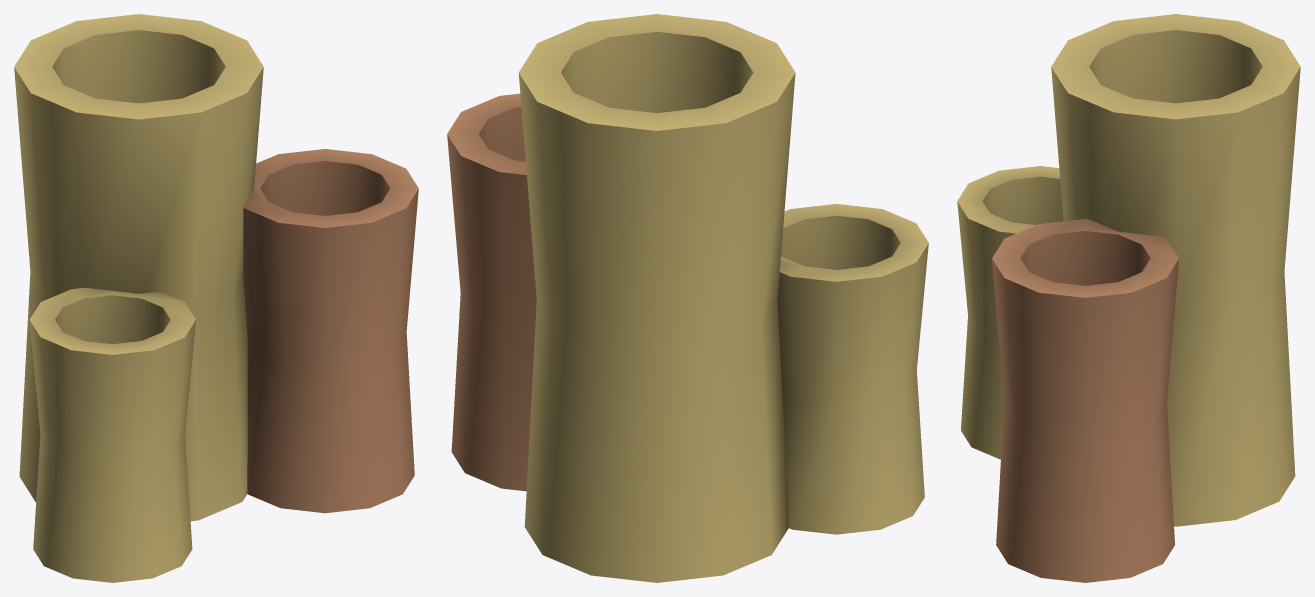
File: spongecluster.glb
The picture shows the model from 3 angles, left to right: view 1: azimuth 30°, elevation 25°; view 2: azimuth 150°, elevation 25°; view 3: azimuth 270°, elevation 25°; orthographic projection. The views are drawn at different scales.
Visible parts, largest first — view 1: boat_mosaic2, boat_terracotta; view 2: boat_mosaic2, boat_terracotta; view 3: boat_mosaic2, boat_terracotta.
Part boxes in pixels (x1,y1,x2,y2): boat_mosaic2: (14,14,263,582); boat_terracotta: (243,149,418,513); boat_mosaic2: (518,14,928,582); boat_terracotta: (447,93,536,491); boat_mosaic2: (957,14,1300,526); boat_terracotta: (992,219,1178,582).
Size of the model in its own units: 0.4955 by 0.5 by 0.38.
